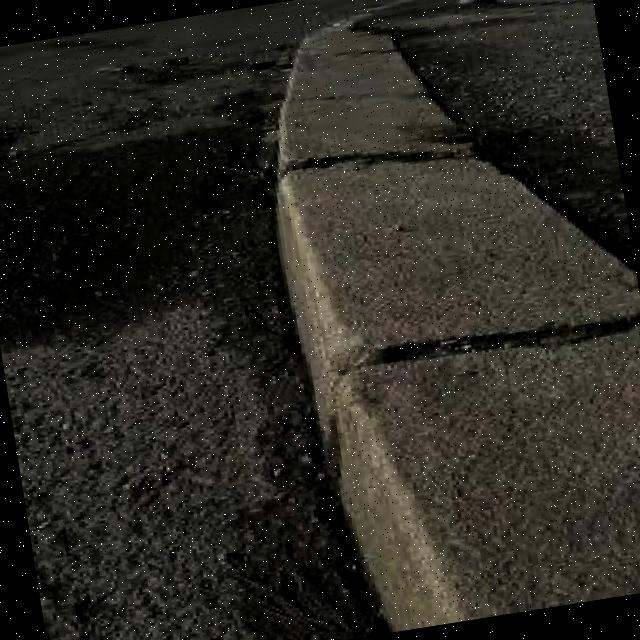curb: (246, 1, 640, 640)
